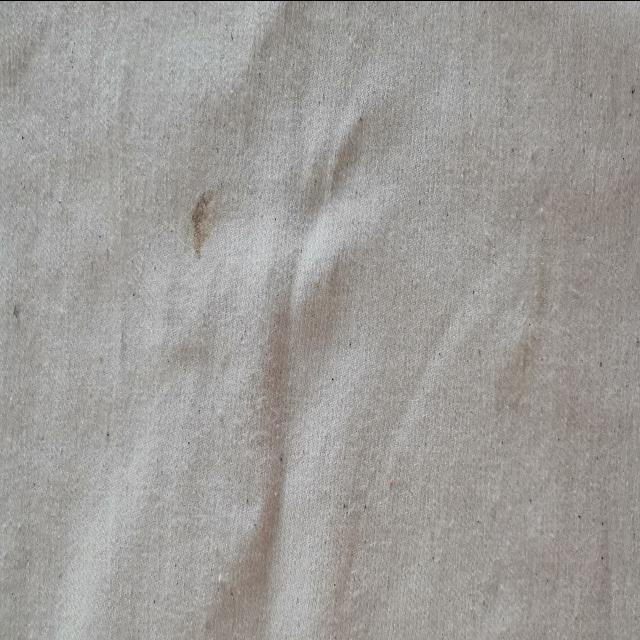taaaches: (170, 170, 232, 290)
